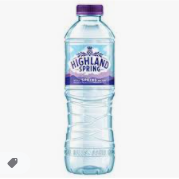Bottle: (63, 5, 120, 176)
